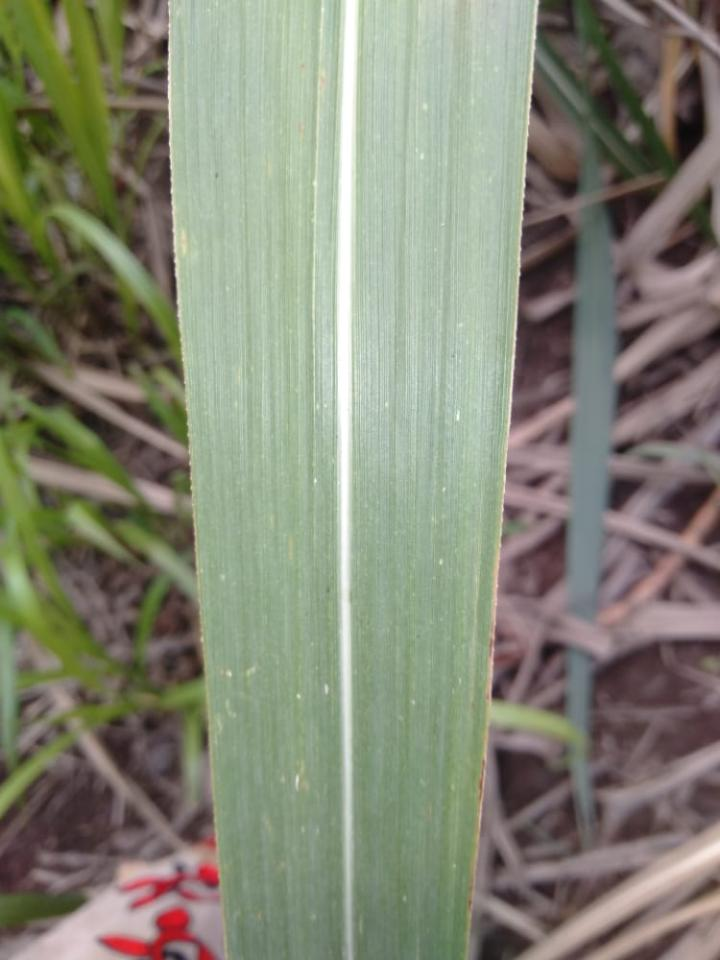Healthy: (169, 0, 536, 959)
